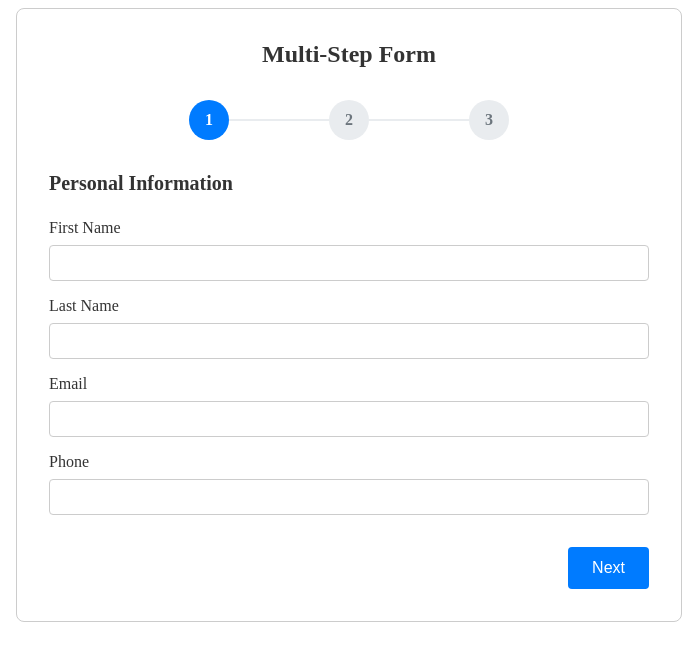
Test: MultiStepForm Component › Step 1 - Personal Information › should show validation error when phone is empty
The width and height of the screenshot is (699, 659).
Type "John" into the field with test id "input-firstName" at (349, 263), box [49,245,649,281]
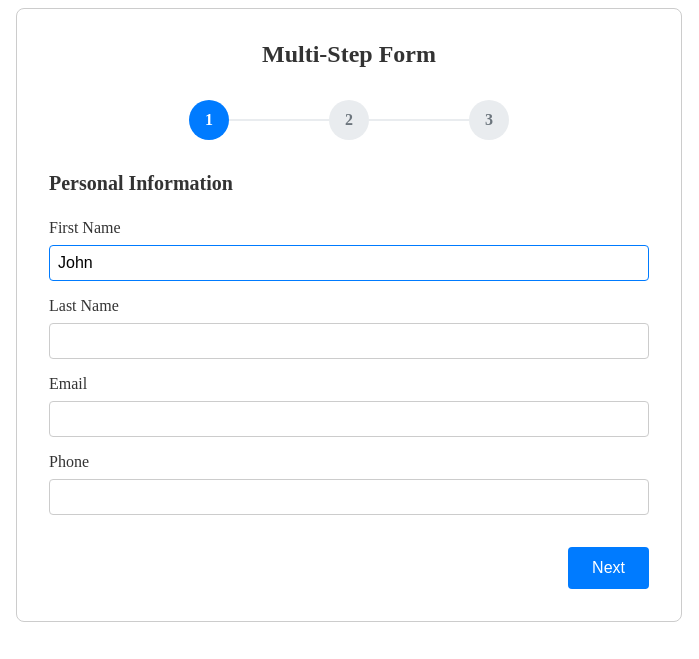
Type "Doe" into the field with test id "input-lastName" at (349, 341), box [49,323,649,359]
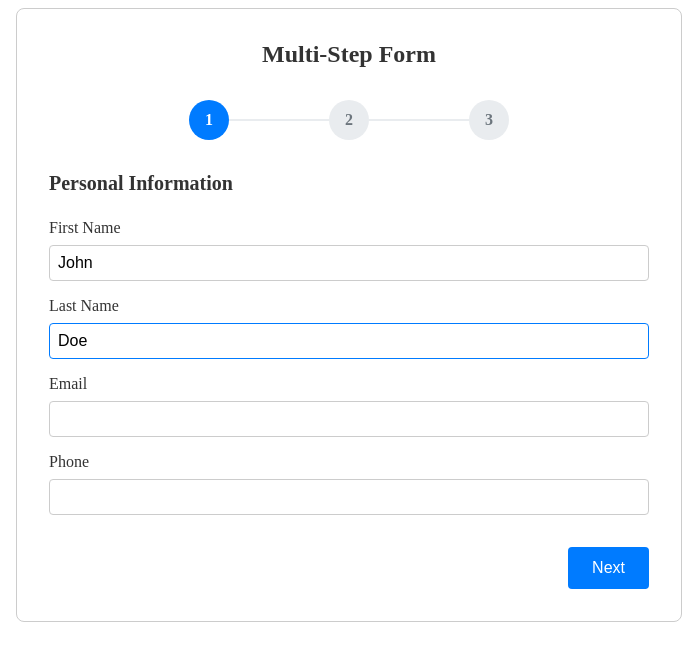
Type "john@example.com" into the field with test id "input-email" at (349, 419), box [49,401,649,437]
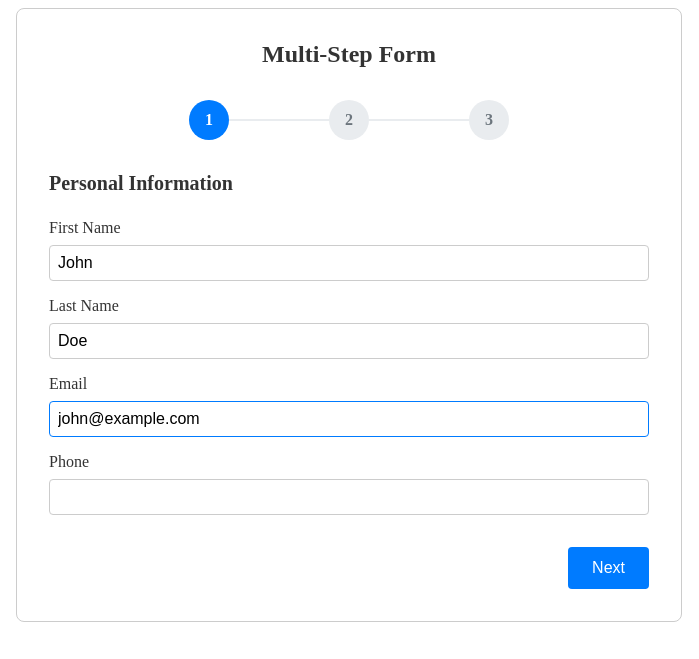
Click the button with test id "form-next" at (609, 568), box [568,547,649,589]
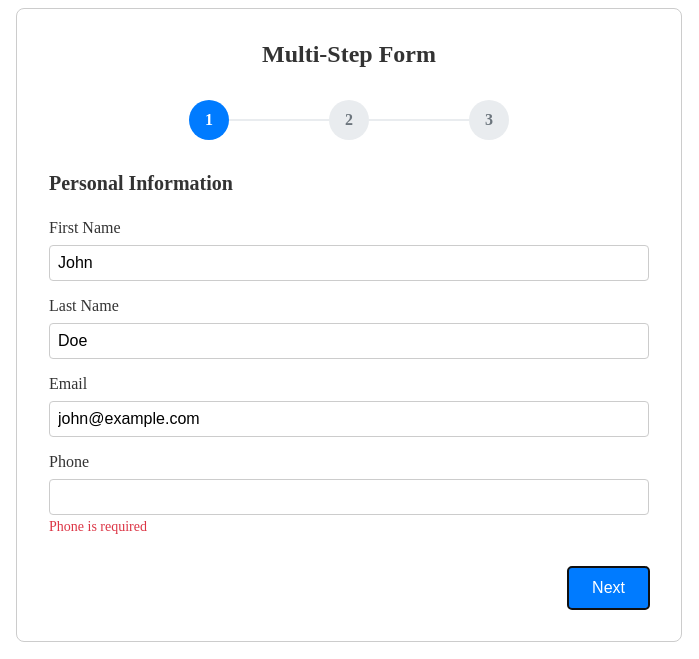
Result: the text with test id "error-phone" reads "Phone is required" at [49,519,147,534]
